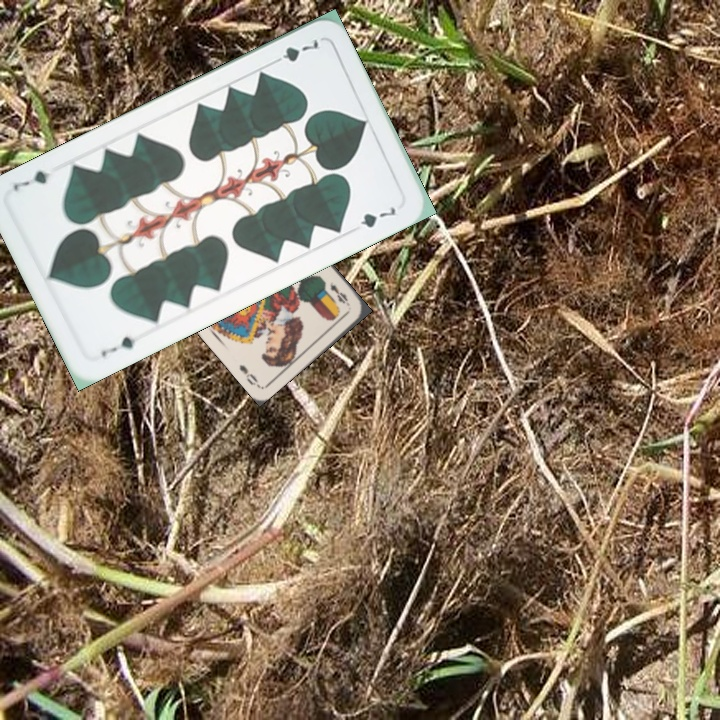EO: (326, 278, 353, 309)
G7: (267, 35, 321, 67), (96, 332, 139, 359)
